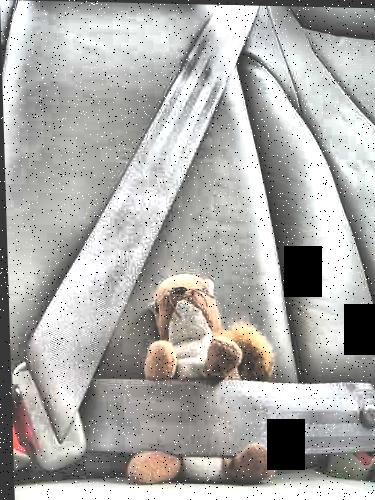seatbelt: (15, 12, 314, 476)
